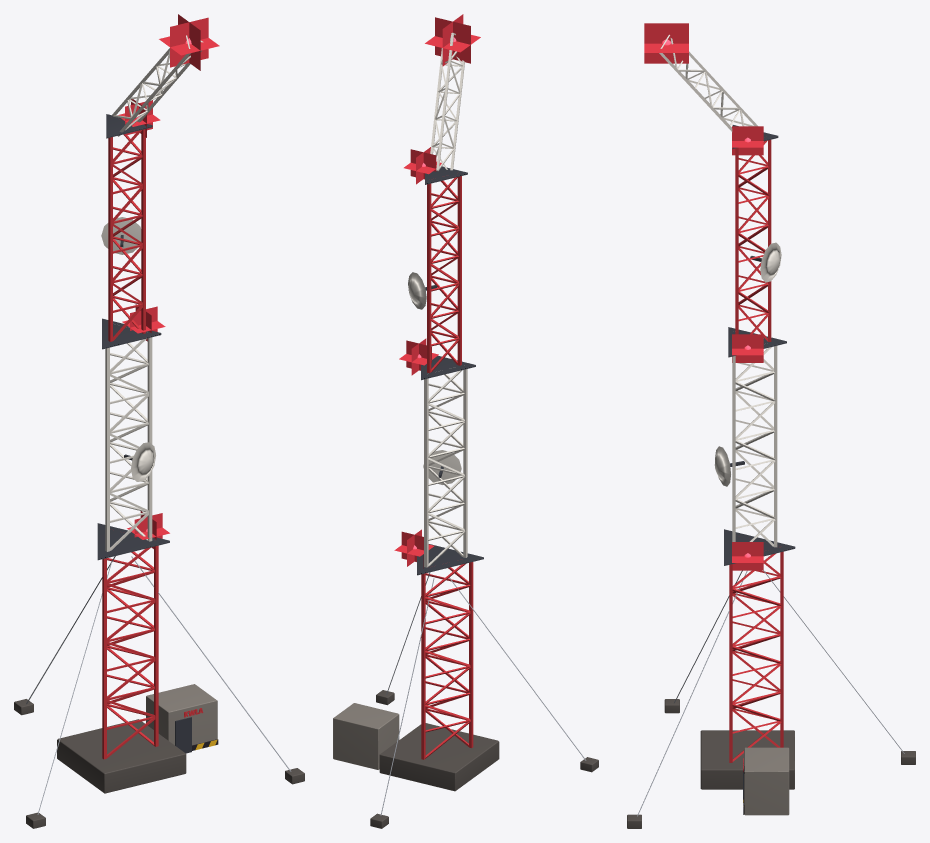
Rendered from city_radio_tower.glb.
3 renders of one model, left to right at view 1: azimuth 30°, elevation 25°; view 2: azimuth 150°, elevation 25°; view 3: azimuth 270°, elevation 25°, orthographic. The views are drawn at different scales.
Parts seen in each view (by area): view 1: RadioTower; view 2: RadioTower; view 3: RadioTower.
Part boxes in pixels (x1,y1,x2,y2): RadioTower: (14, 14, 304, 828); RadioTower: (333, 14, 598, 828); RadioTower: (627, 23, 915, 828).
Size of the model in its own units: 15.3 by 44.38 by 15.3.
